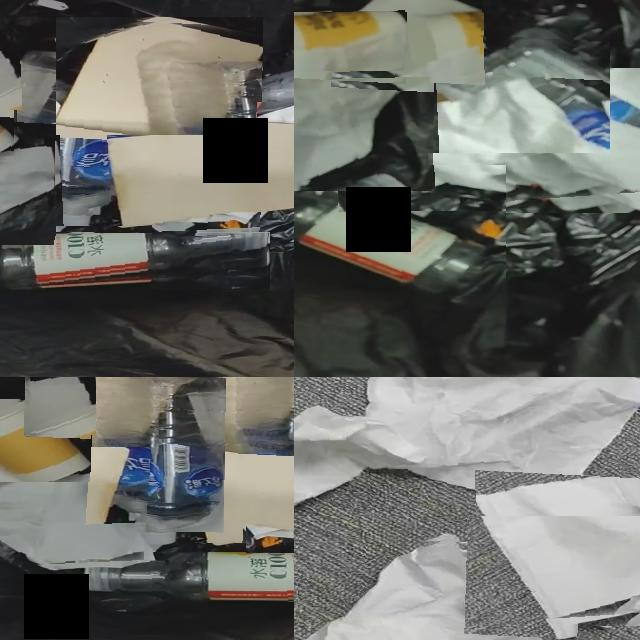bottle: (365, 36, 610, 153), (15, 53, 151, 226), (294, 190, 506, 296), (93, 377, 226, 532), (0, 233, 269, 289), (83, 552, 294, 601)
carton: (56, 21, 263, 135), (108, 122, 294, 226), (122, 377, 294, 445), (190, 446, 294, 543)
dixie_cup: (0, 402, 91, 482), (294, 12, 406, 53)
paper: (294, 377, 640, 502), (337, 68, 640, 199), (468, 454, 640, 621), (294, 17, 435, 191), (305, 540, 547, 640), (0, 447, 148, 566), (332, 0, 482, 78), (26, 377, 96, 435), (152, 212, 259, 238), (247, 524, 294, 539), (257, 105, 294, 124), (258, 105, 294, 121)
